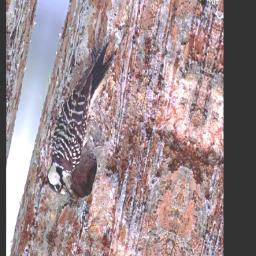Woodpecker: (42, 28, 117, 208)
